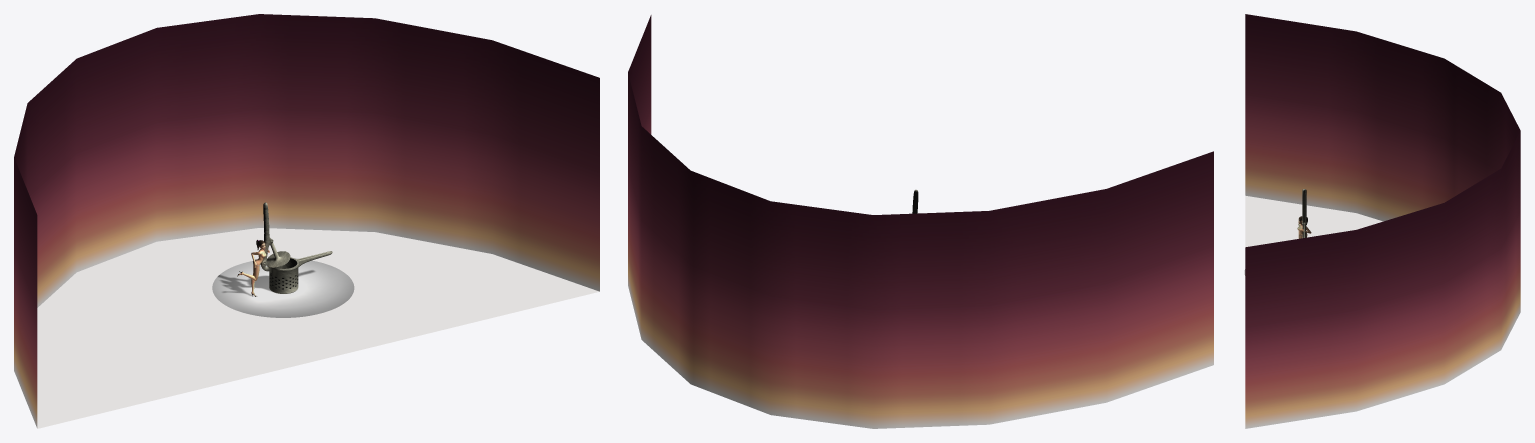
File: garlic1.fbx
3 views of the same model, side by side, from view 1: azimuth 30°, elevation 25°; view 2: azimuth 150°, elevation 25°; view 3: azimuth 270°, elevation 25° (orthographic). The views are drawn at different scales.
Parts seen in each view (by area): view 1: back, mark, garlic; view 2: back; view 3: back.
Part boxes in pixels (bbox=[...]): back: bbox=[14, 14, 599, 428]; mark: bbox=[212, 258, 354, 317]; garlic: bbox=[260, 202, 332, 293]; back: bbox=[628, 15, 1213, 428]; back: bbox=[1245, 14, 1520, 428].
Size of the model in its own units: 1875 by 681 by 946.
4 materials, 4 textured.
